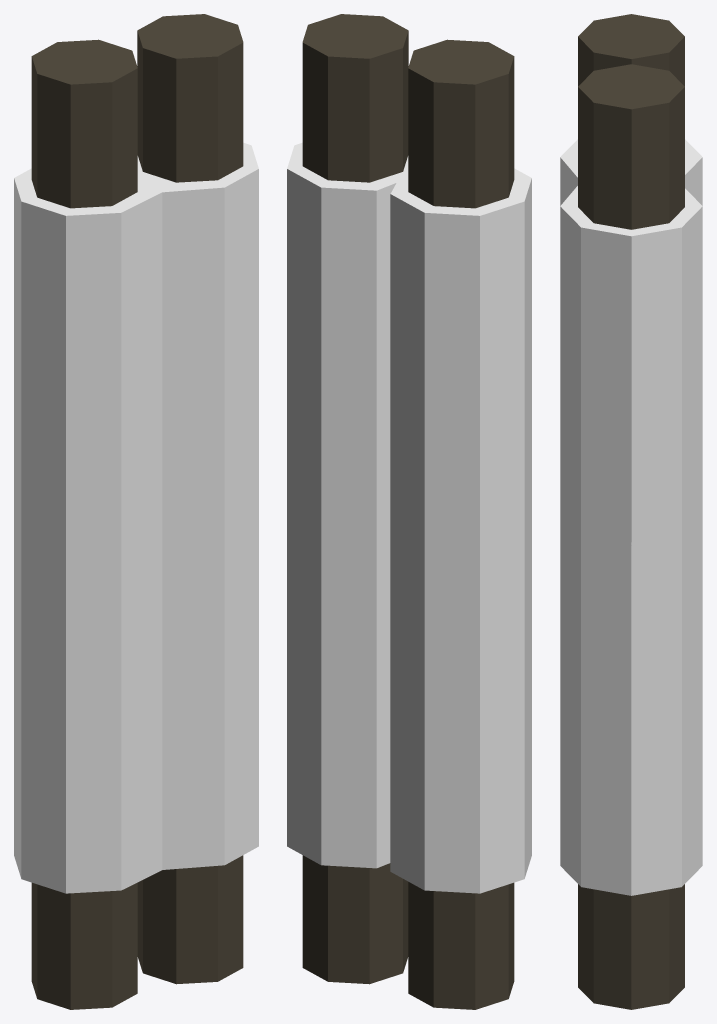
The model's file is Scroll.fbx.
The picture shows the model from 3 angles, left to right: view 1: azimuth 30°, elevation 25°; view 2: azimuth 150°, elevation 25°; view 3: azimuth 270°, elevation 25°; orthographic projection. The views are drawn at different scales.
Parts seen in each view (by area): view 1: Cylinder.007; view 2: Cylinder.007; view 3: Cylinder.007.
Boxes of the visible parts, x1,y1,x2,y2 form: Cylinder.007: [14, 14, 258, 1009]; Cylinder.007: [287, 14, 531, 1009]; Cylinder.007: [560, 14, 702, 1009].
Bounding box in the file's own units: 21.79 × 83.68 × 12.
